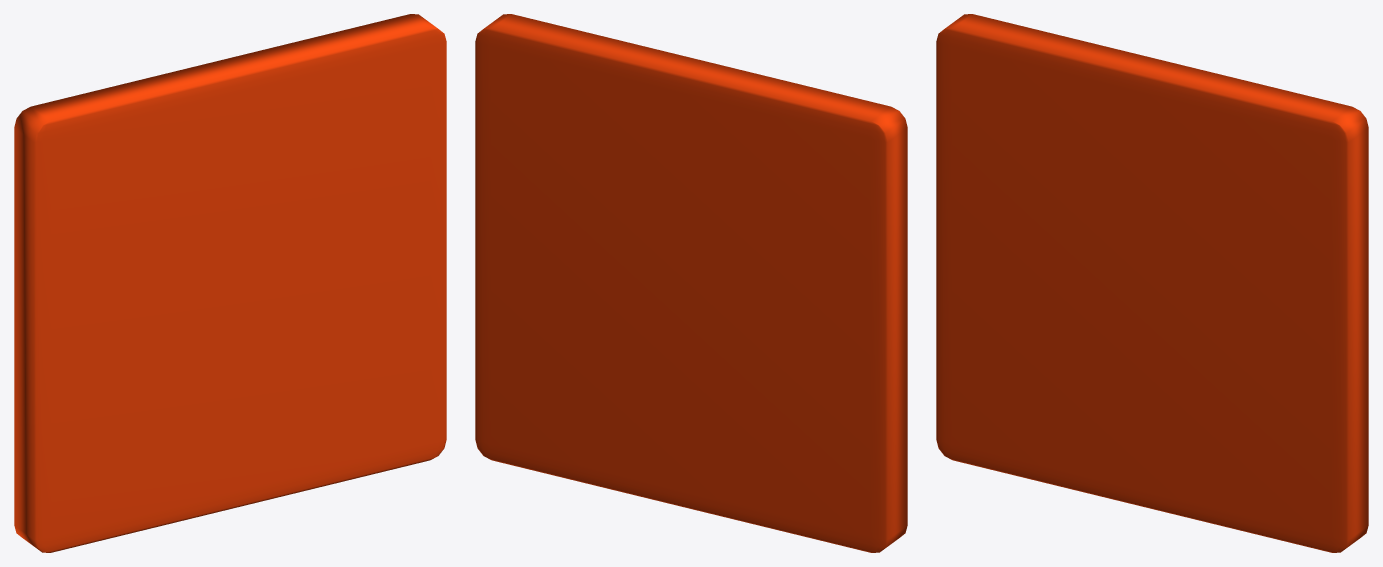
File: 1M_Cube_ChamferFBX.FBX
3 views of the same model, side by side, from view 1: azimuth 30°, elevation 25°; view 2: azimuth 150°, elevation 25°; view 3: azimuth 330°, elevation 25° (orthographic).
Parts seen in each view (by area): view 1: 1M_Cube_ChamferFBX; view 2: 1M_Cube_ChamferFBX; view 3: 1M_Cube_ChamferFBX.
Boxes of the visible parts, box(x1,y1,x2,y2) form: 1M_Cube_ChamferFBX: box(14, 14, 446, 552); 1M_Cube_ChamferFBX: box(475, 14, 907, 552); 1M_Cube_ChamferFBX: box(936, 14, 1368, 552).
Size of what is drawn, in the model's own units: 275 by 25 by 275.
